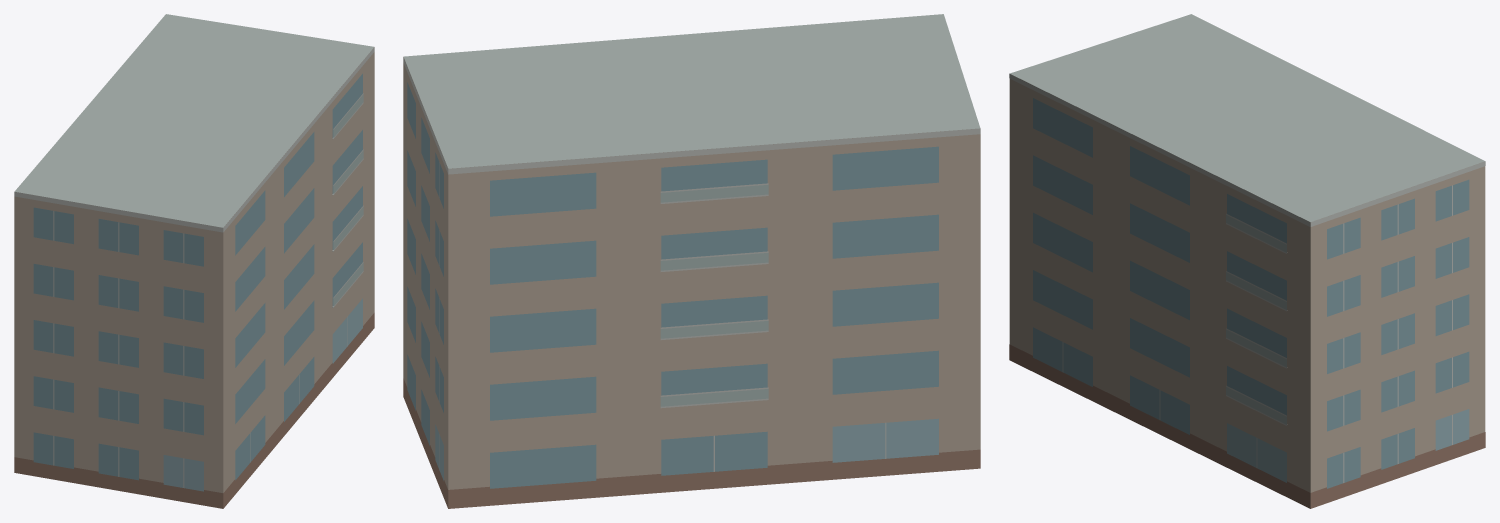
The model's file is survey-upis-32984504.glb.
The picture shows the model from 3 angles, left to right: view 1: azimuth 30°, elevation 25°; view 2: azimuth 150°, elevation 25°; view 3: azimuth 270°, elevation 25°; orthographic projection. The views are drawn at different scales.
Visible parts, largest first — view 1: survey-upis-32984504.tmp; view 2: survey-upis-32984504.tmp; view 3: survey-upis-32984504.tmp.
Boxes of the visible parts, bbox=[...] form: survey-upis-32984504.tmp: bbox=[14, 14, 374, 508]; survey-upis-32984504.tmp: bbox=[403, 14, 980, 508]; survey-upis-32984504.tmp: bbox=[1009, 14, 1485, 508].
Size of the model in its own units: 22.29 by 14.3 by 21.53.
